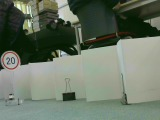speed_20: (1, 50, 22, 71)
